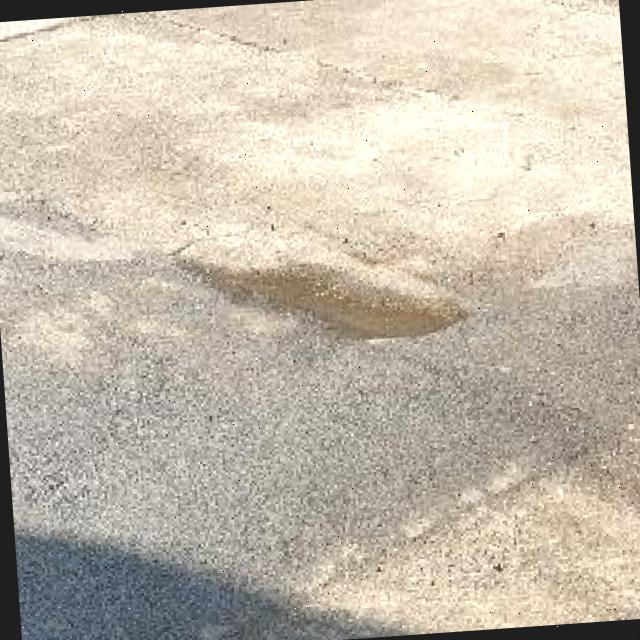stagnation: (148, 210, 484, 376)
